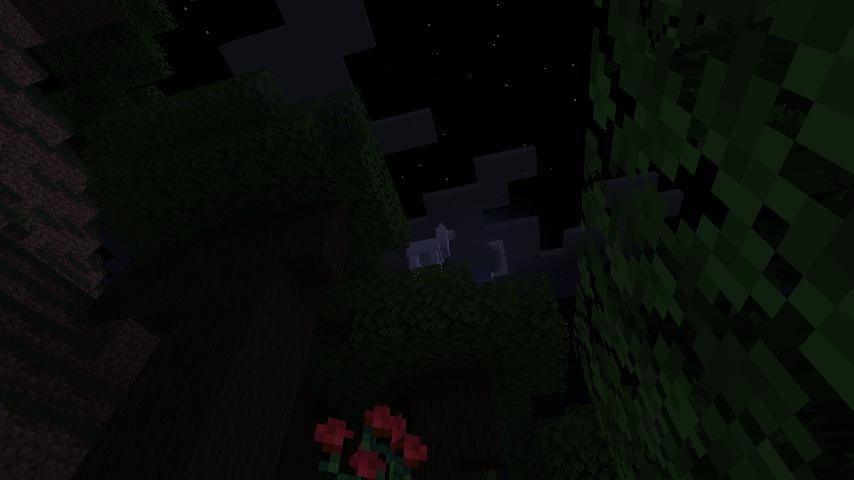llama: (404, 220, 458, 273)
